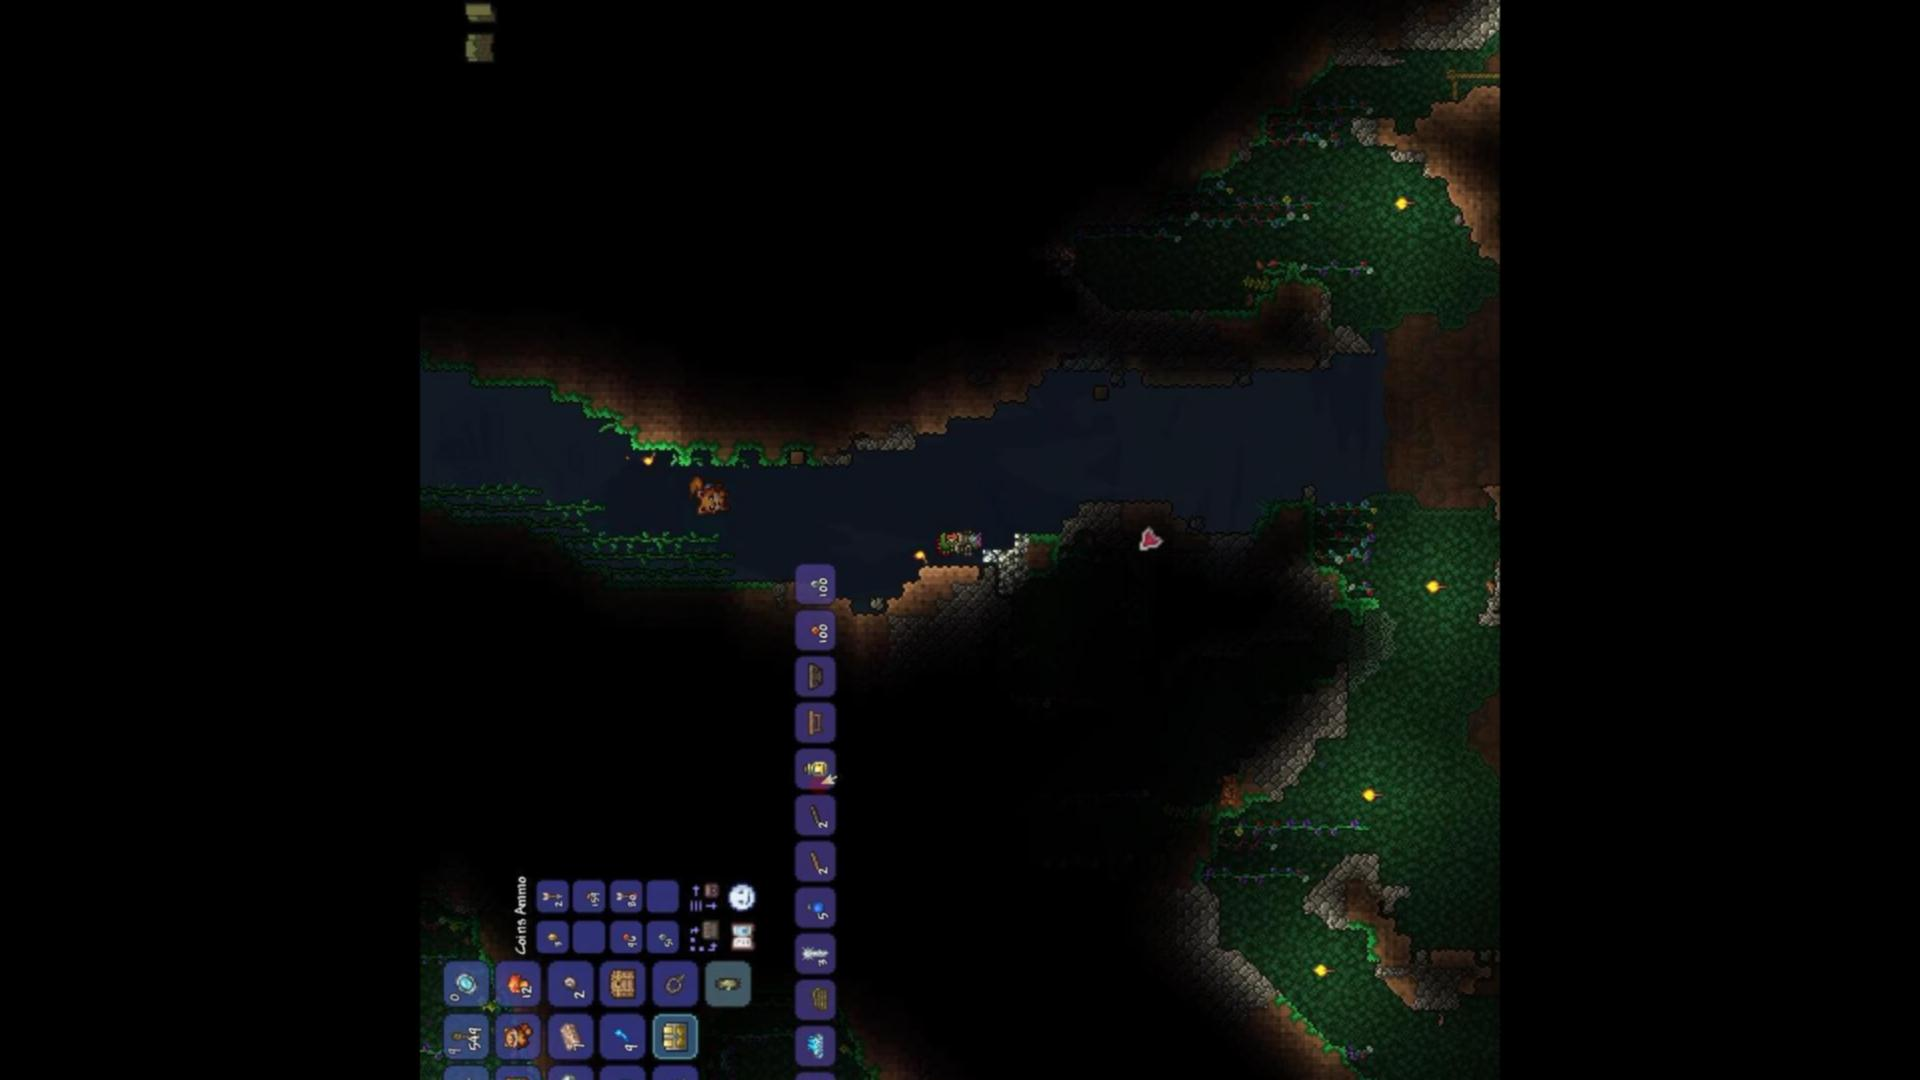cobwebI: (454, 1073, 480, 1080)
torchT: (1383, 179, 1432, 218), (1416, 570, 1453, 597), (1357, 777, 1386, 810), (1313, 952, 1341, 981), (637, 444, 662, 475), (910, 539, 930, 574)
workbench: (806, 708, 823, 735)
